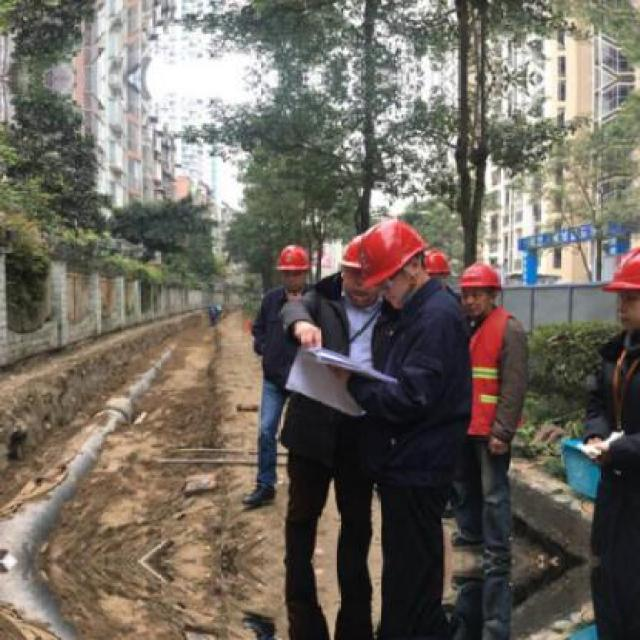helmet: (357, 217, 428, 306), (602, 240, 638, 332), (341, 230, 382, 304), (458, 259, 502, 316), (276, 244, 310, 292), (423, 242, 451, 287)
